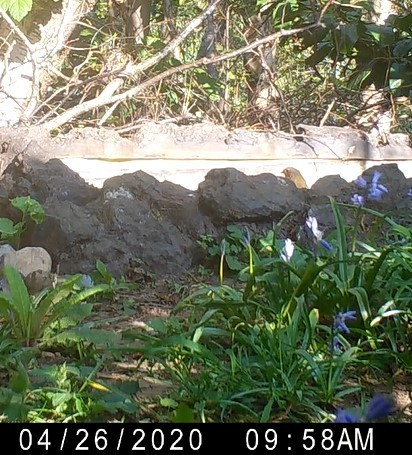Erithacus_Rubecula: (280, 167, 308, 188)
